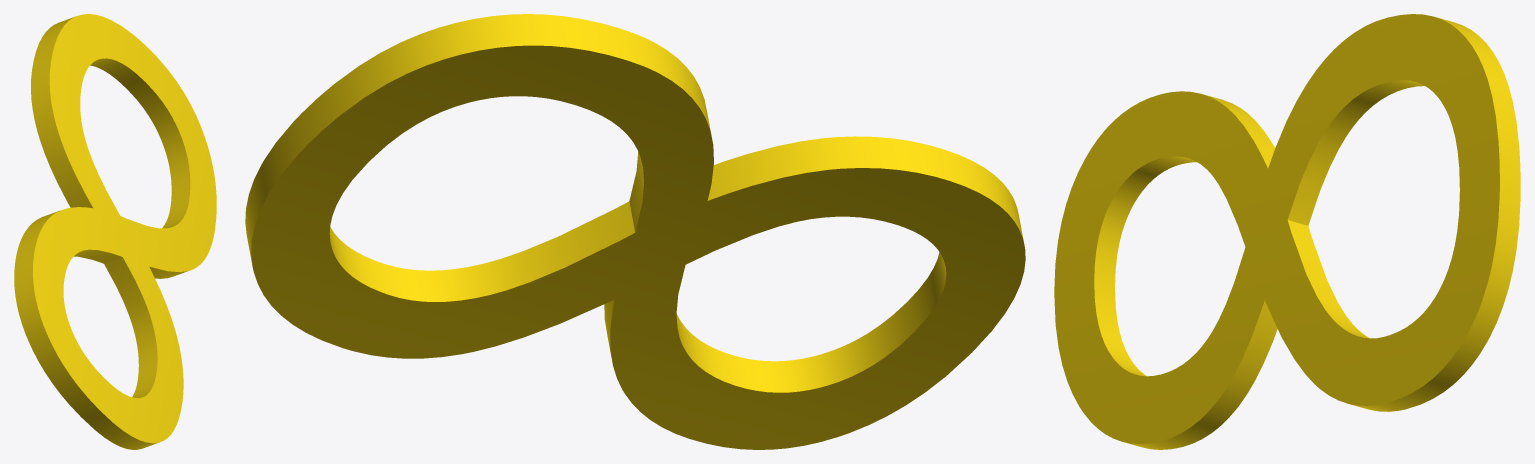
The model's file is Number_8.gltf.
3 renders of one model, left to right at view 1: azimuth 30°, elevation 25°; view 2: azimuth 150°, elevation 25°; view 3: azimuth 270°, elevation 25°, orthographic. The views are drawn at different scales.
Visible parts, largest first — view 1: Sub_4_Cell_2_1_Number_8; view 2: Sub_4_Cell_2_1_Number_8; view 3: Sub_4_Cell_2_1_Number_8.
Part boxes in pixels (x1=…): Sub_4_Cell_2_1_Number_8: x1=14, y1=14, x2=216, y2=449; Sub_4_Cell_2_1_Number_8: x1=245, y1=14, x2=1025, y2=449; Sub_4_Cell_2_1_Number_8: x1=1054, y1=14, x2=1520, y2=449.
Size of the model in its own units: 0.0203 by 0.0202 by 0.0193.
